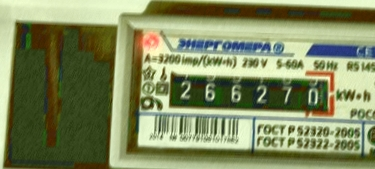0: (305, 84, 320, 105)
2: (178, 78, 192, 99), (255, 82, 269, 103)
6: (203, 80, 216, 101), (229, 82, 243, 101)
7: (281, 83, 292, 103)
screen: (157, 60, 342, 122)
